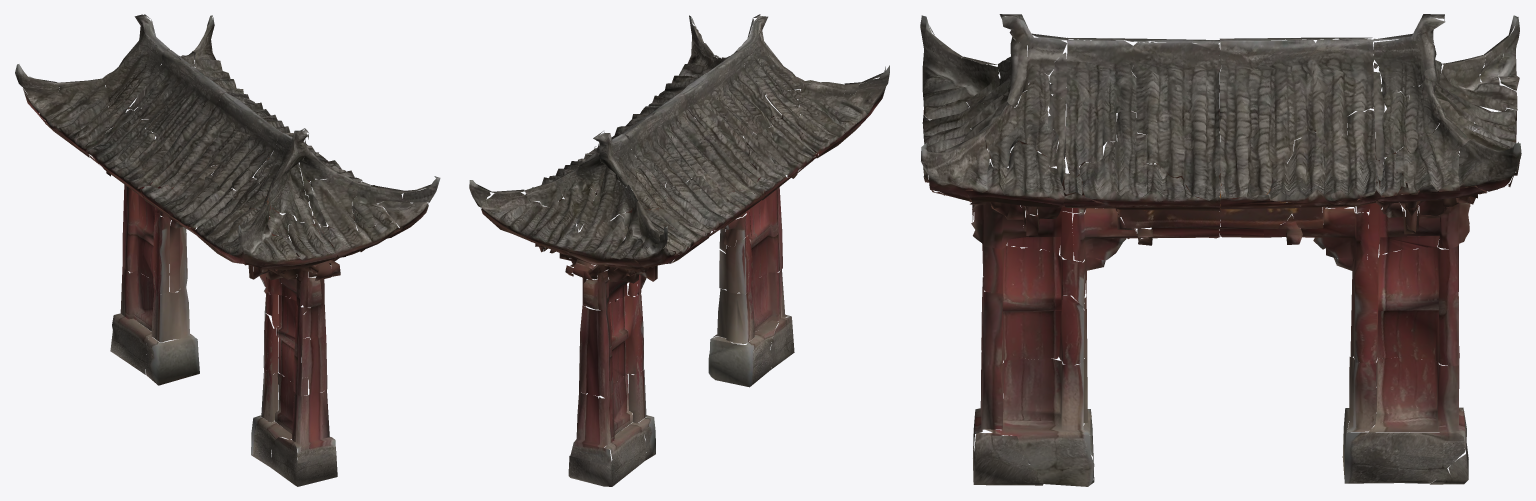
The model's file is gate.glb.
3 renders of one model, left to right at view 1: azimuth 30°, elevation 25°; view 2: azimuth 150°, elevation 25°; view 3: azimuth 270°, elevation 25°, orthographic. The views are drawn at different scales.
Parts seen in each view (by area): view 1: Supplied gate; view 2: Supplied gate; view 3: Supplied gate.
Boxes of the visible parts, left/top/right/bottom form: Supplied gate: left=15, top=14, right=440, bottom=486; Supplied gate: left=469, top=14, right=889, bottom=486; Supplied gate: left=920, top=14, right=1521, bottom=486.
Bounding box in the file's own units: 0.5196 × 0.8411 × 1.
1 material, 1 textured.
